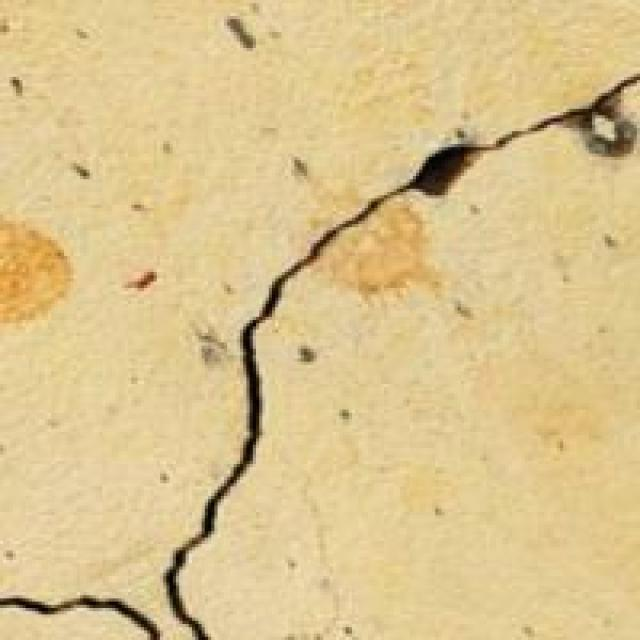SurfaceCrack: (164, 56, 640, 638), (0, 564, 162, 640)
